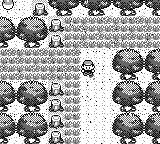captura: (1, 16, 160, 143)
main: (81, 61, 96, 75)
no-caminable: (114, 49, 160, 143), (1, 81, 47, 143), (48, 0, 159, 16), (1, 18, 47, 47), (48, 83, 64, 143), (49, 16, 64, 47), (32, 3, 48, 16)
poke-ball: (2, 0, 14, 10)
